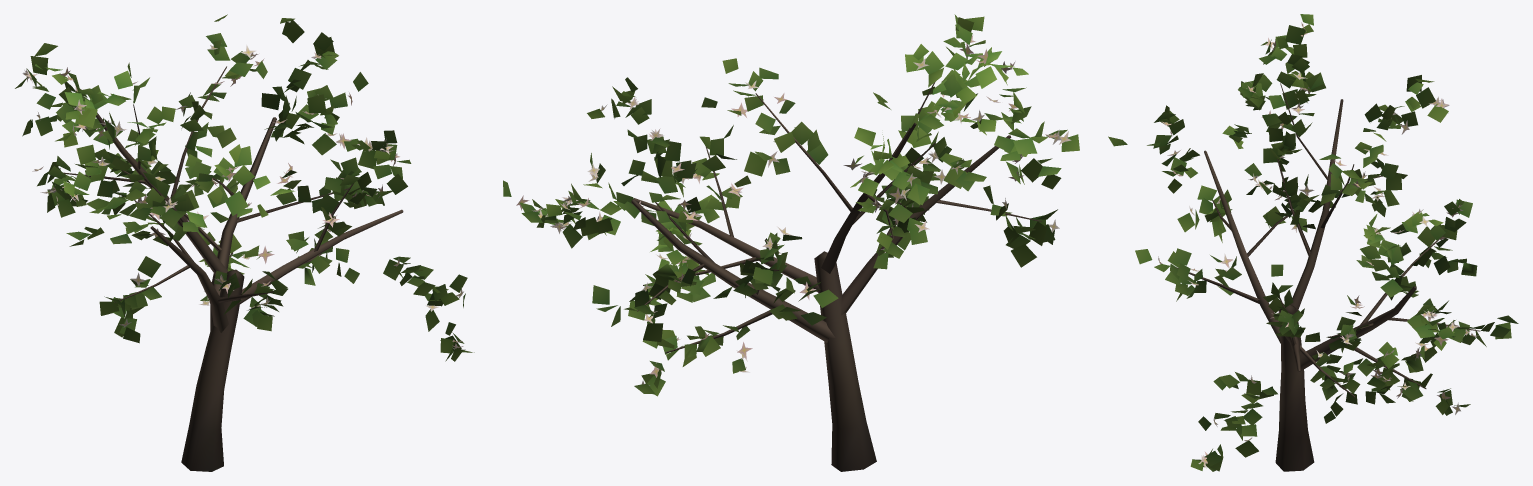
Rendered from apple-c.lod1.glb.
The picture shows the model from 3 angles, left to right: view 1: azimuth 30°, elevation 25°; view 2: azimuth 150°, elevation 25°; view 3: azimuth 270°, elevation 25°; orthographic projection. The views are drawn at different scales.
Bounding box in the file's own units: 4.91 × 4.57 × 4.4.
